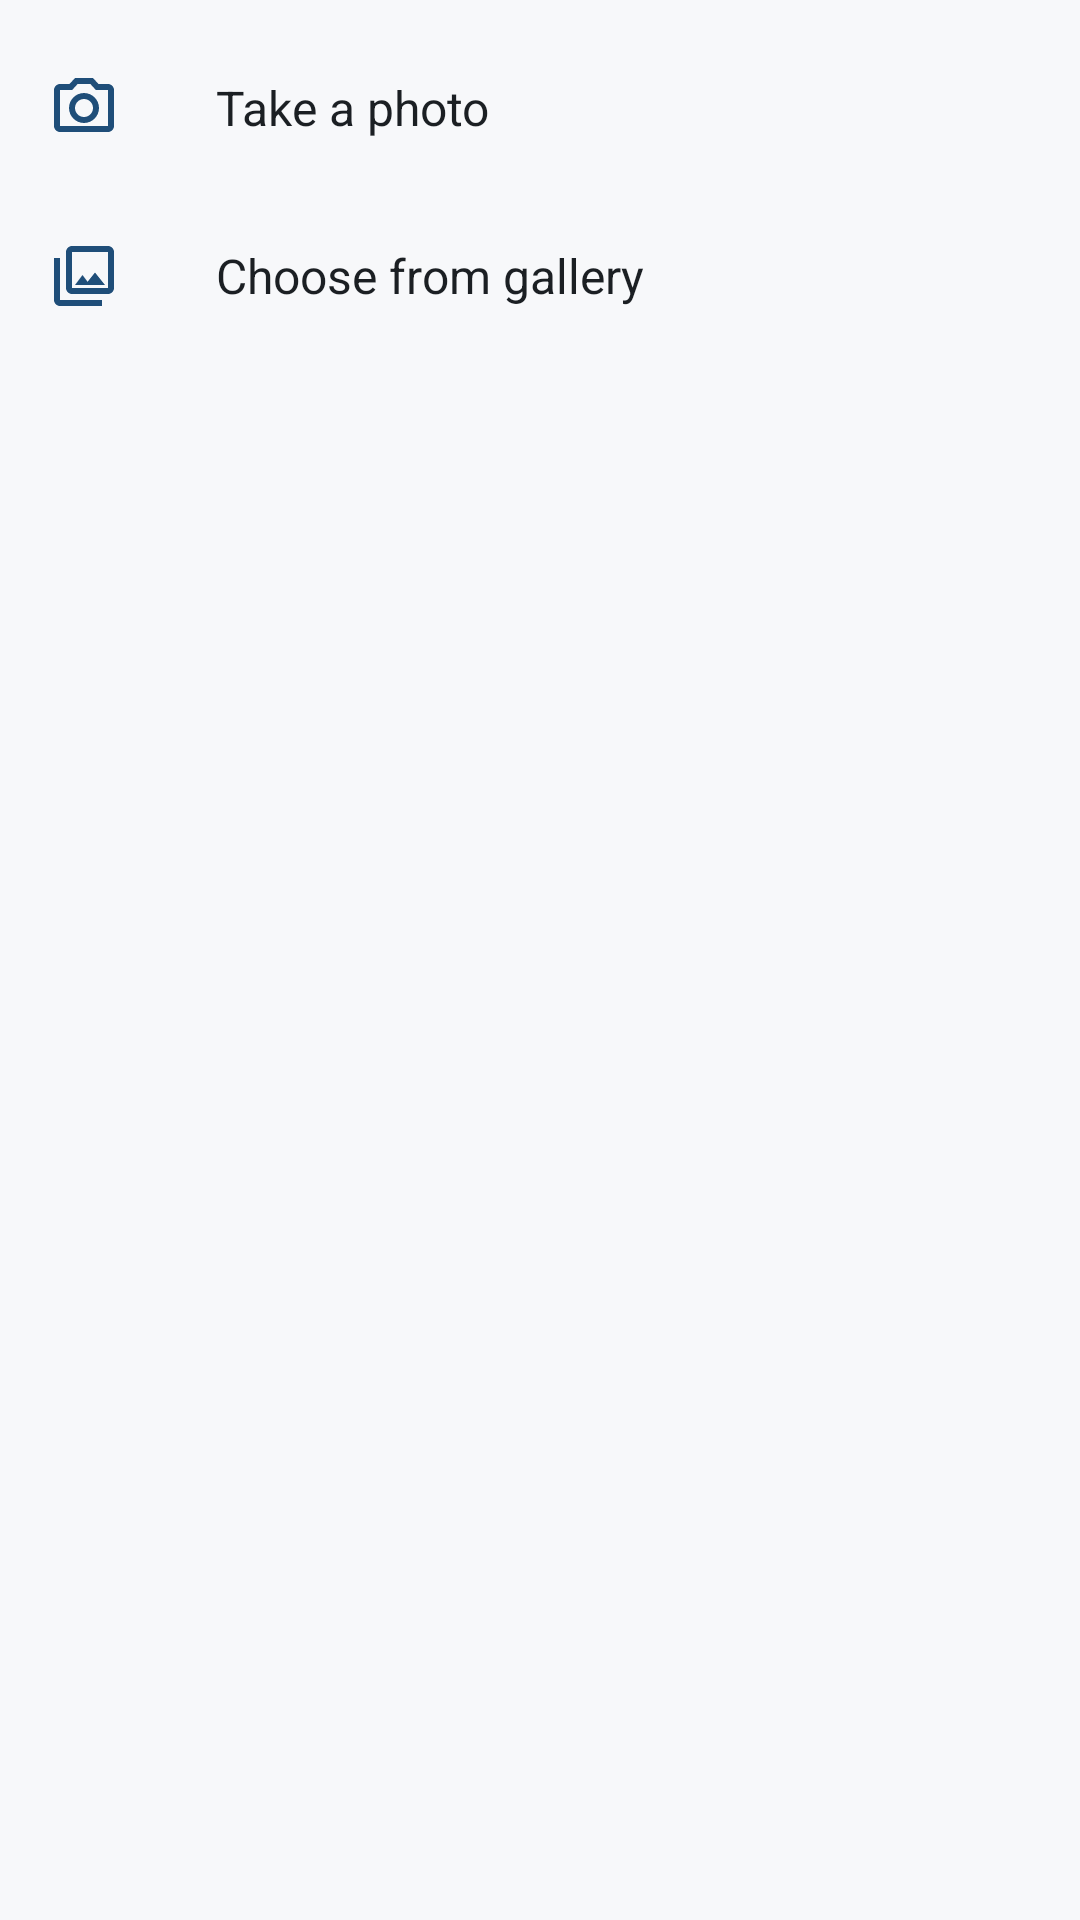

Where to tap for icons on this 1080*1920 app screen, as (x,y):
photo camera: (84,105)
photo library: (84,276)
